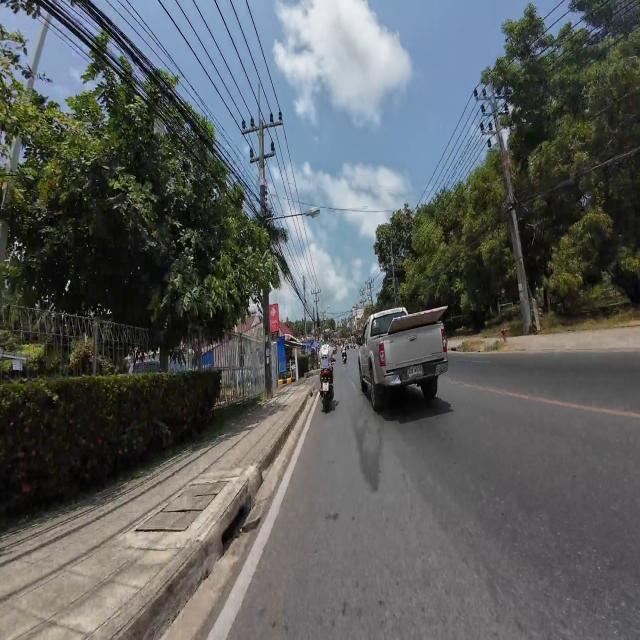car: (356, 303, 453, 414)
motorcycle: (320, 369, 333, 412), (342, 351, 346, 363)
